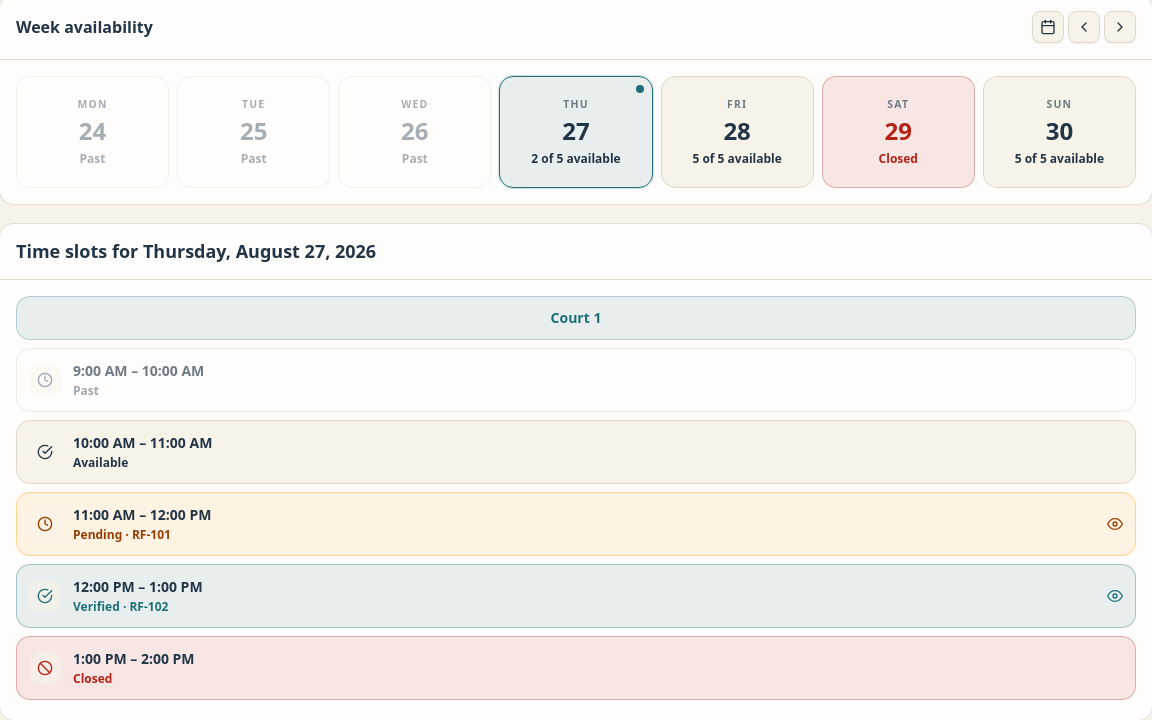
Test: PortalHomeView › shows no payment-review actions for a verified booking
(page scrolled)
Click the button with aria-label "View verified reservation RF-102" at [45, 596], box 16,564 -> 1136,628
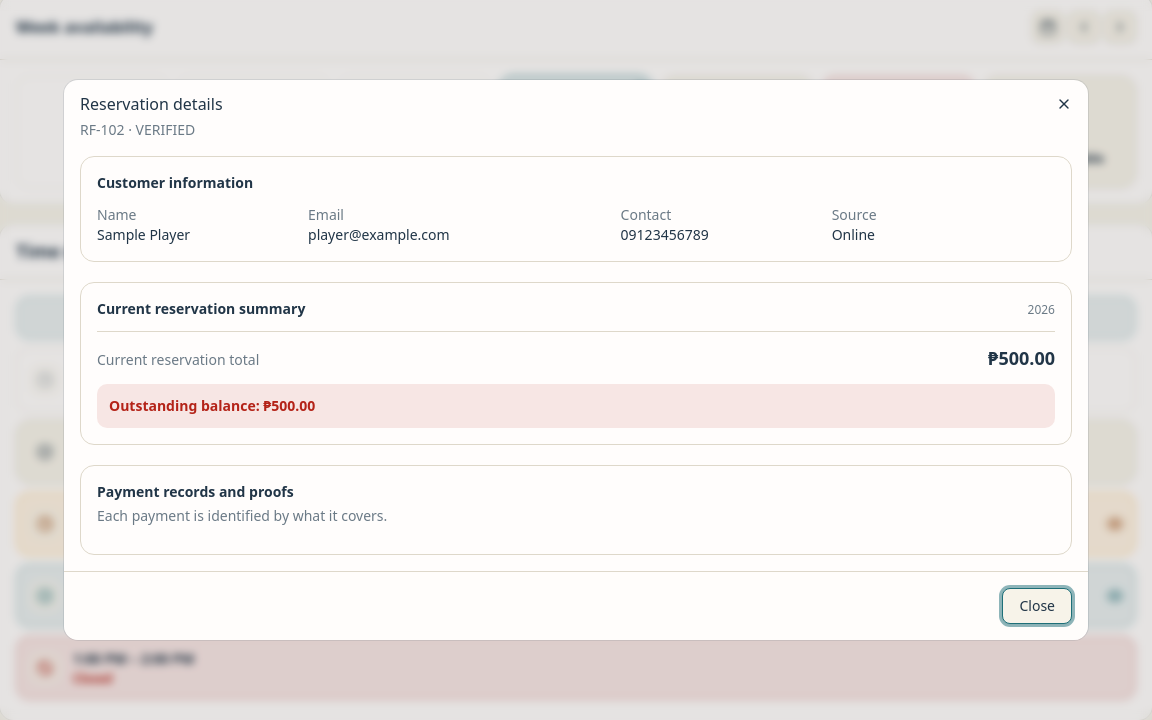
Now the text "RF-102 · VERIFIED" is shown, box 80,120 -> 195,139
